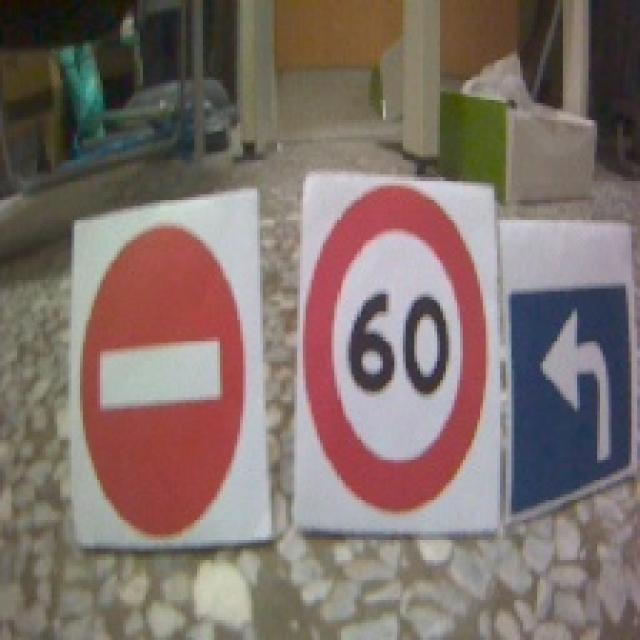DoNotEnterSign: (81, 227, 244, 536)
